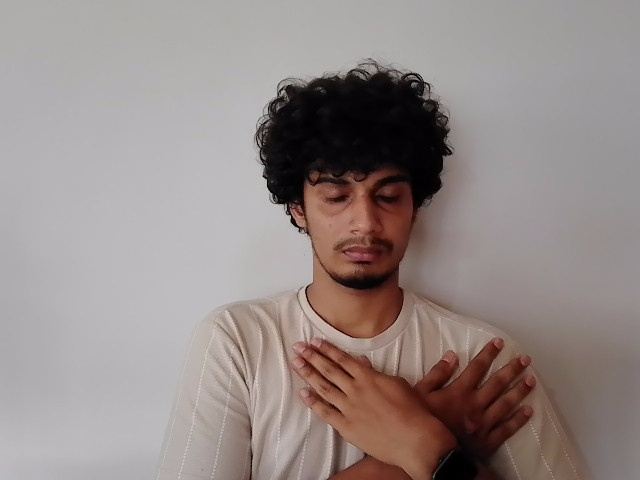relaxing: (285, 335, 545, 466)
